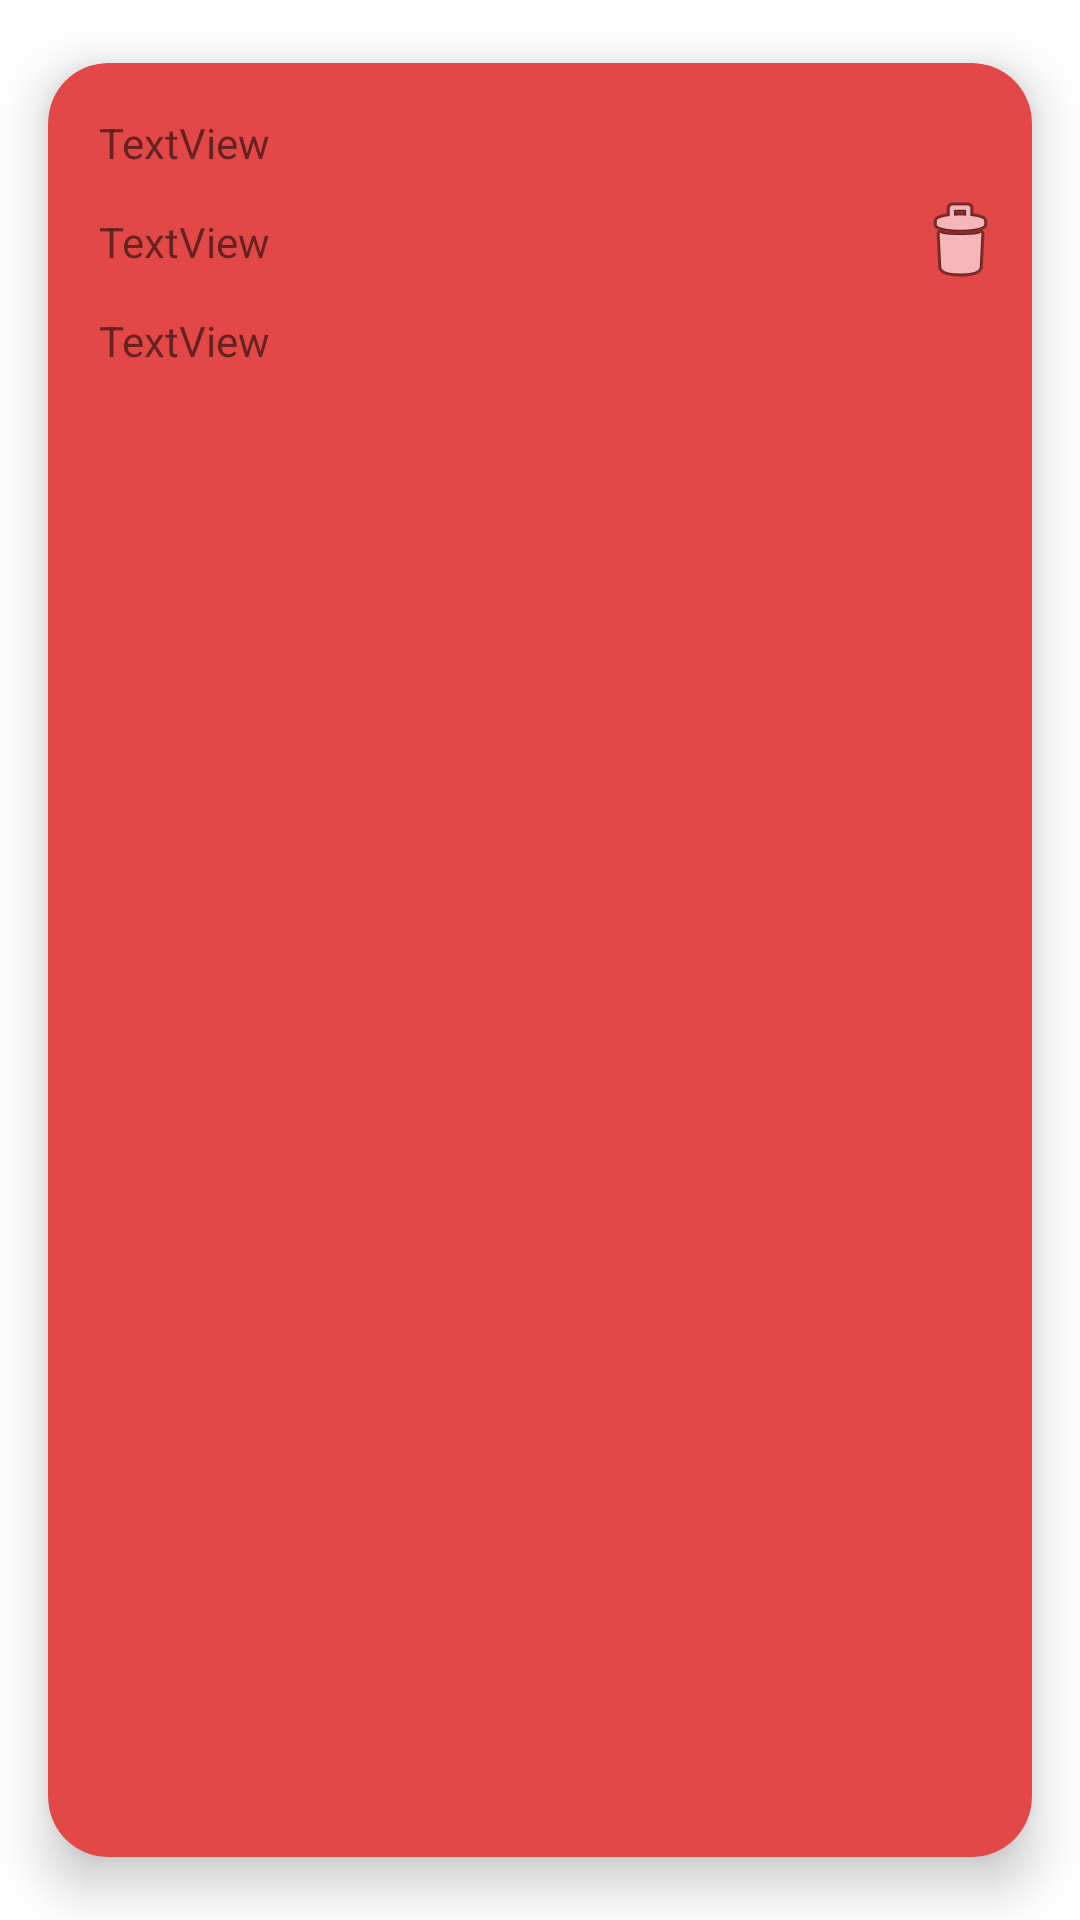

Where icons sit on this 1080 × 1920 app screen, as rect(x1, y1, x2, y2):
delete: rect(933, 202, 988, 277)
